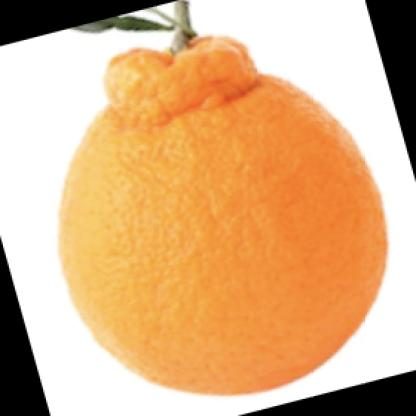fresh: (61, 37, 387, 395)
